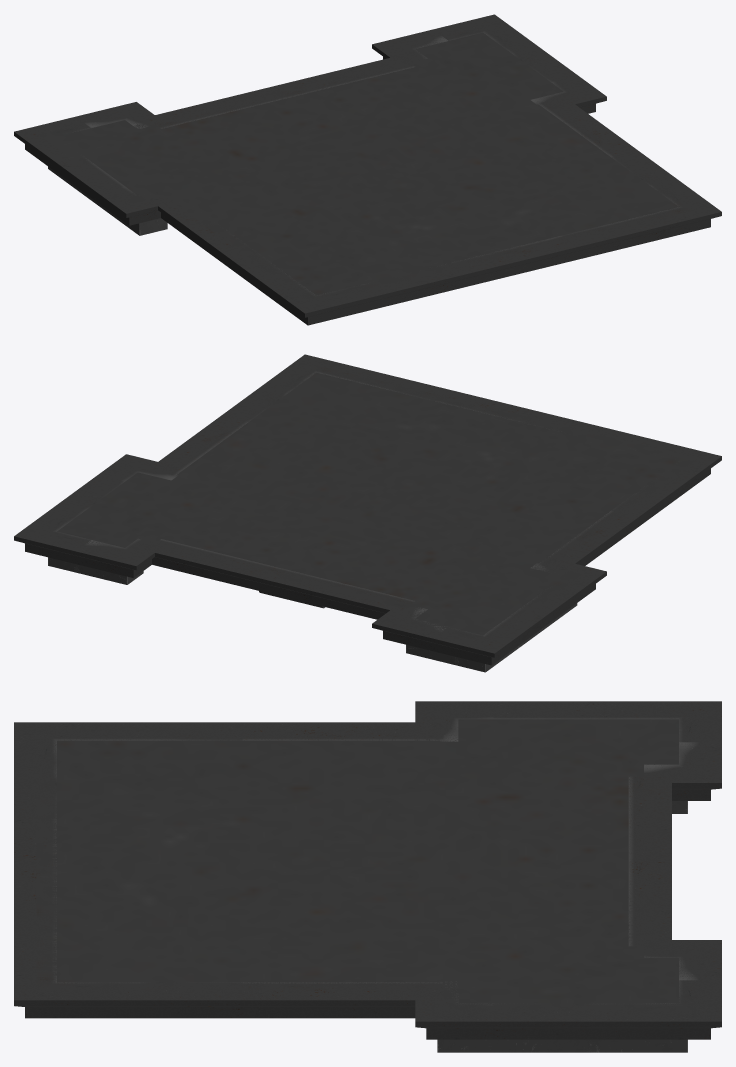
Rendered from TrimSheetC1_Upper.fbx.
3 views of the same model, one above another, from view 1: azimuth 30°, elevation 25°; view 2: azimuth 150°, elevation 25°; view 3: azimuth 270°, elevation 25° (orthographic). The views are drawn at different scales.
Visible parts, largest first — view 1: TrimSheetC1_Upper; view 2: TrimSheetC1_Upper; view 3: TrimSheetC1_Upper.
Boxes of the visible parts, bbox=[...] form: TrimSheetC1_Upper: bbox=[14, 14, 721, 325]; TrimSheetC1_Upper: bbox=[14, 354, 721, 672]; TrimSheetC1_Upper: bbox=[14, 701, 721, 1052].
Bounding box in the file's own units: 1512 × 100 × 1412.
1 material, 1 textured.
